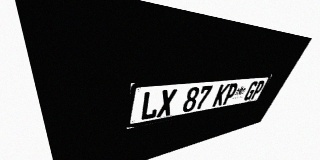7: (194, 85, 213, 110)
8: (181, 86, 201, 113)
G: (242, 81, 259, 101)
K: (212, 84, 230, 107)
L: (139, 90, 161, 121)
P: (221, 83, 239, 105), (250, 80, 266, 100)
X: (156, 89, 177, 118)
